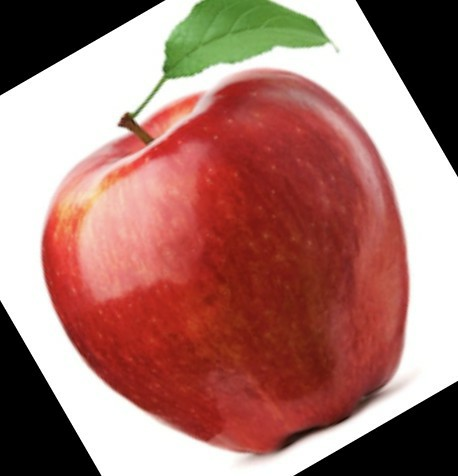fresh_apple: (44, 68, 409, 450)
